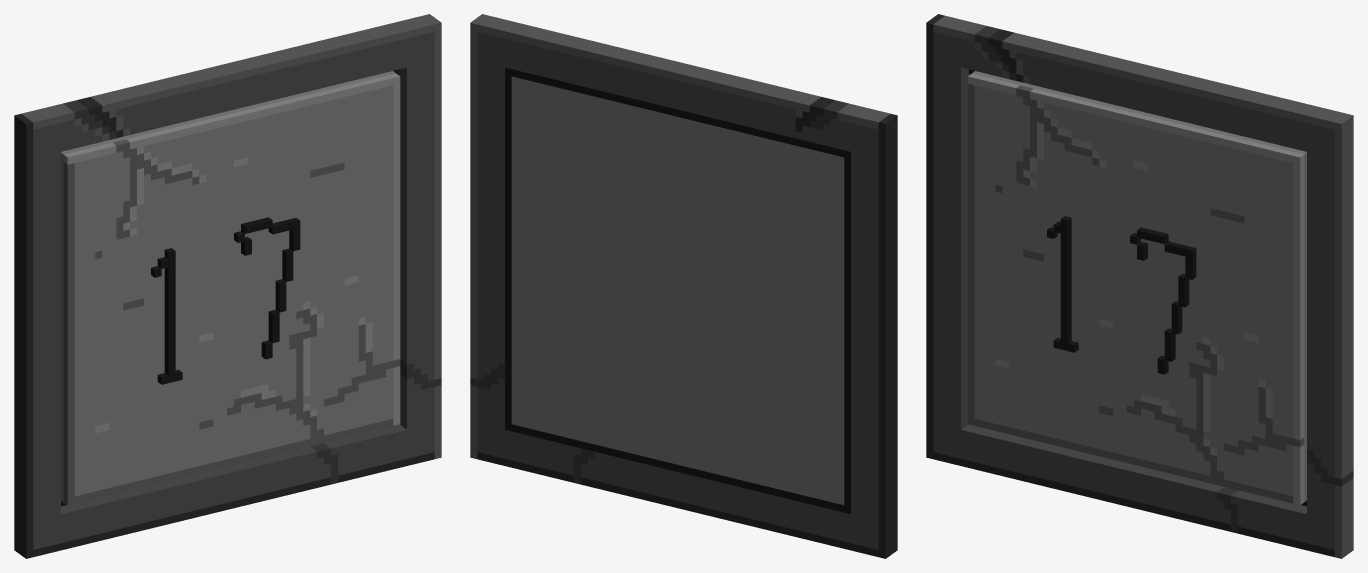
Rendered from balpan_17.obj.
The picture shows the model from 3 angles, left to right: view 1: azimuth 30°, elevation 25°; view 2: azimuth 150°, elevation 25°; view 3: azimuth 330°, elevation 25°; orthographic projection.
Visible parts, largest first — view 1: balpan_17; view 2: balpan_17; view 3: balpan_17.
Part boxes in pixels (x1,y1,x2,y2): balpan_17: (14,14,441,558); balpan_17: (470,14,897,558); balpan_17: (926,14,1353,558).
Bounding box in the file's own units: 60 × 60 × 4.
Materials: 1 (1 with a texture image).
